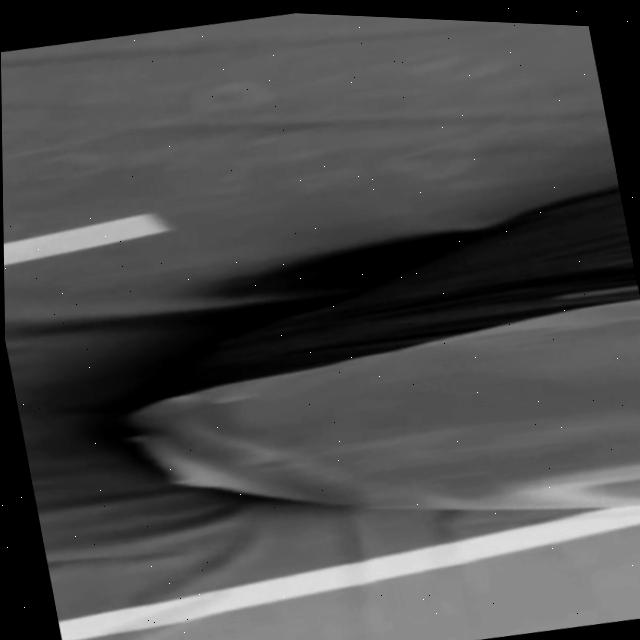center: (4, 213, 169, 264)
right: (57, 505, 640, 640)
